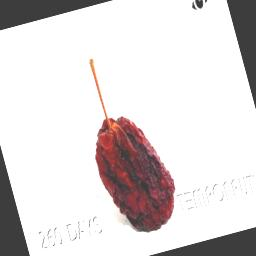Apple Rotten: (48, 8, 204, 246)
